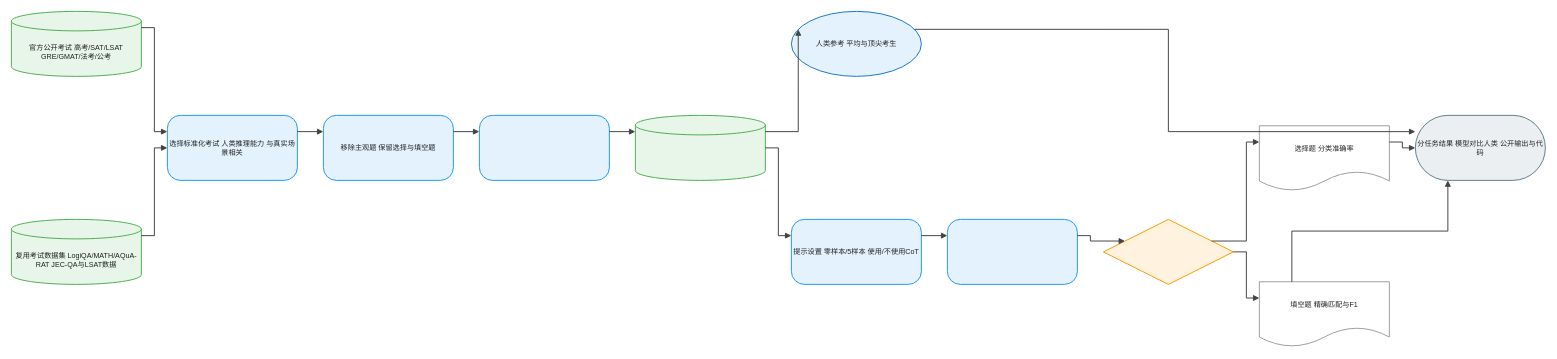
Some shapes in this 1557 by 359 pixel diagram are drawn without their labels. Each missing label, with the box of its shape:
AGIEval 20项任务/8,062题 中文与英文: (635, 115, 766, 181)
统一数据来源 MATH与两类JEC-QA 各下采样至1K: (479, 115, 610, 181)
贪心生成 温度0 最多2,048词元: (947, 219, 1078, 285)
问题题型 选择或填空？: (1103, 219, 1234, 285)
